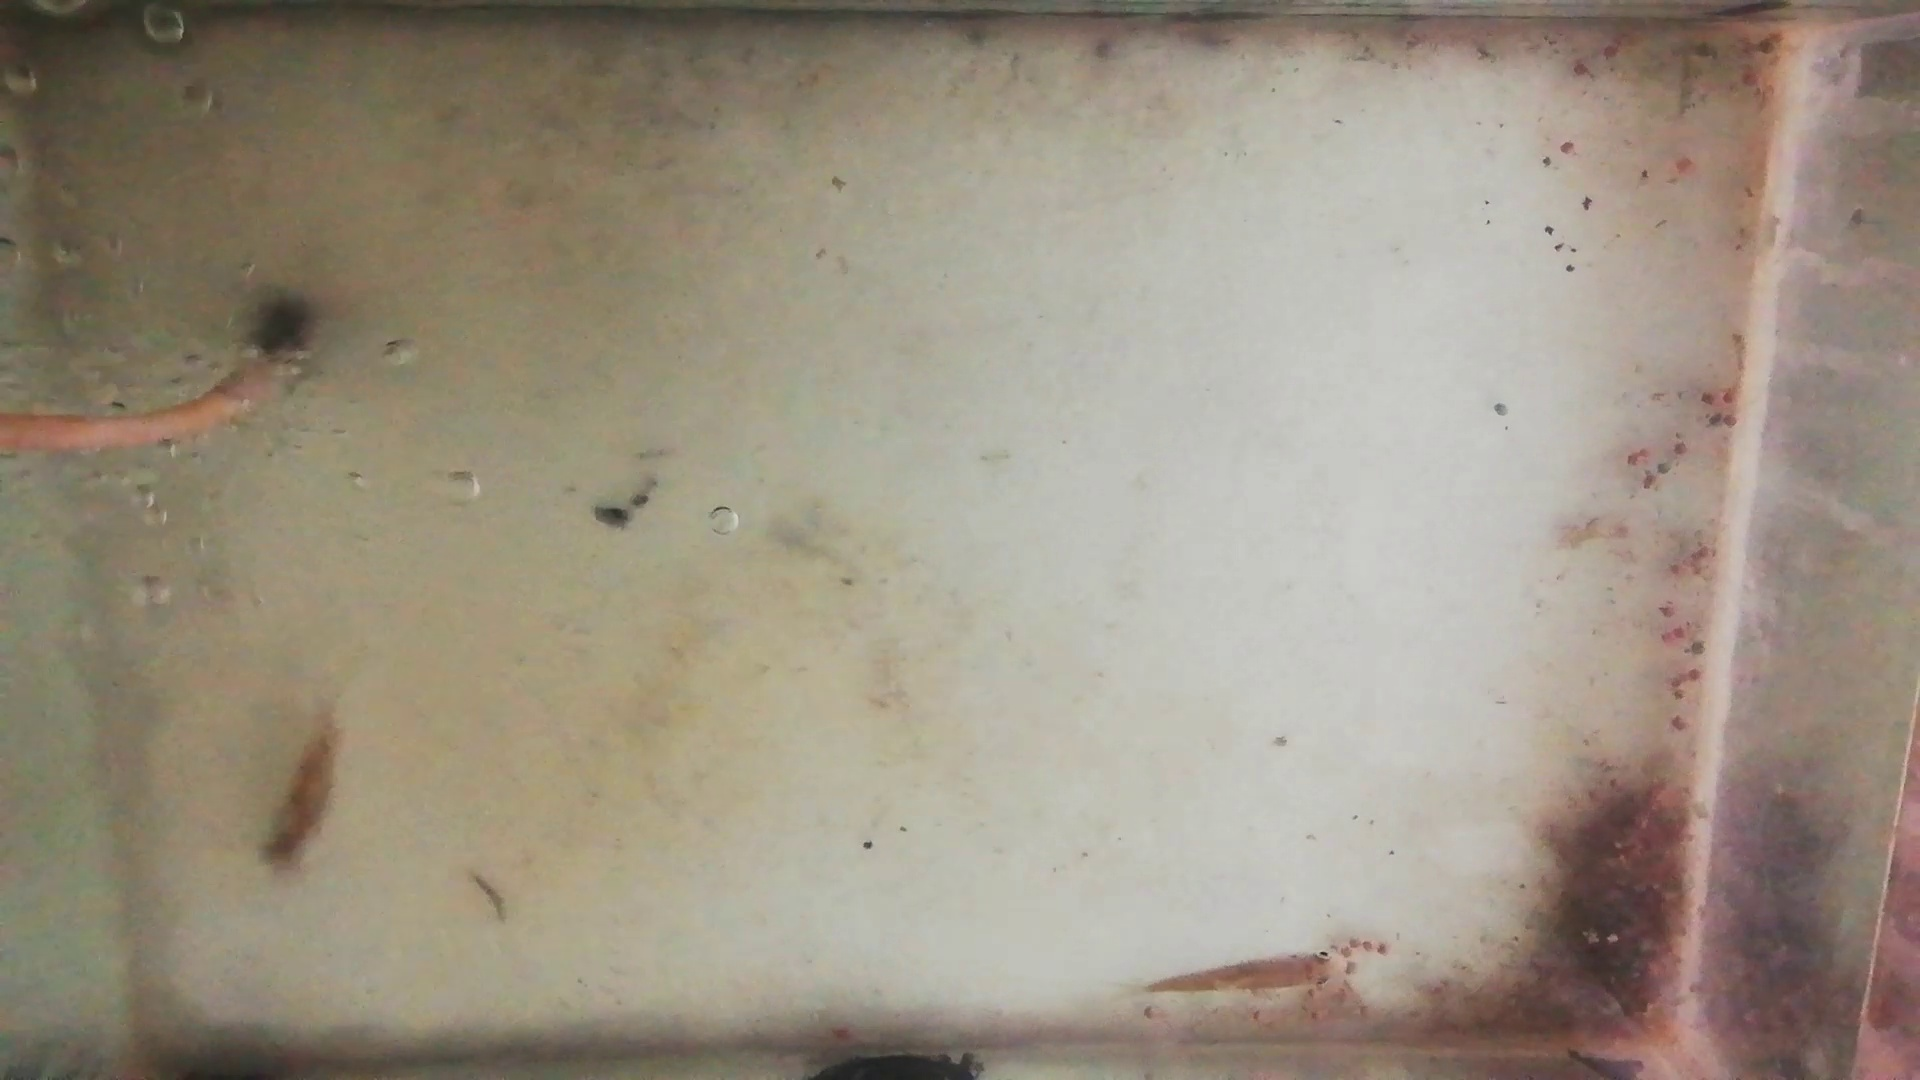fish: (261, 702, 344, 876), (1143, 952, 1349, 1000)
